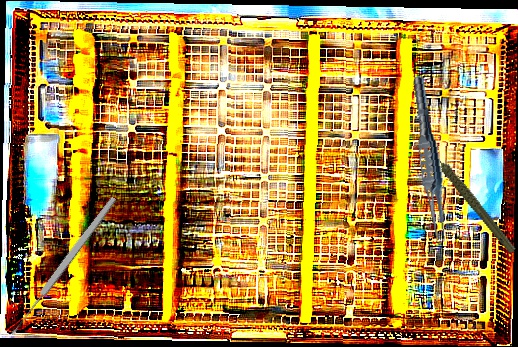Handpiece: (429, 132, 518, 267)
Surgical Spoon: (7, 195, 119, 337)
Tissue Forceps: (405, 74, 454, 246)
